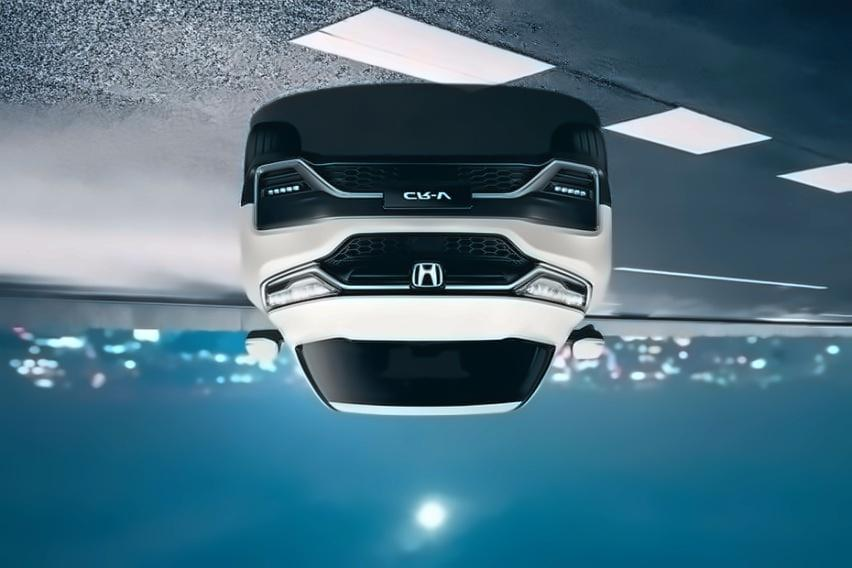Car hood: (266, 293, 590, 349)
Front bumper: (241, 151, 619, 282)
Headlight - -L-: (261, 270, 339, 315)
Headlight - -R-: (510, 272, 590, 313)
Side mirror - -L-: (239, 329, 288, 363)
Side mirror - -R-: (562, 326, 606, 367)
